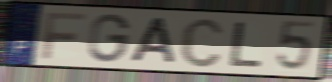5: (274, 18, 316, 74)
A: (128, 16, 178, 66)
C: (178, 15, 226, 69)
F: (40, 11, 88, 61)
G: (87, 12, 132, 64)
L: (227, 20, 265, 69)
